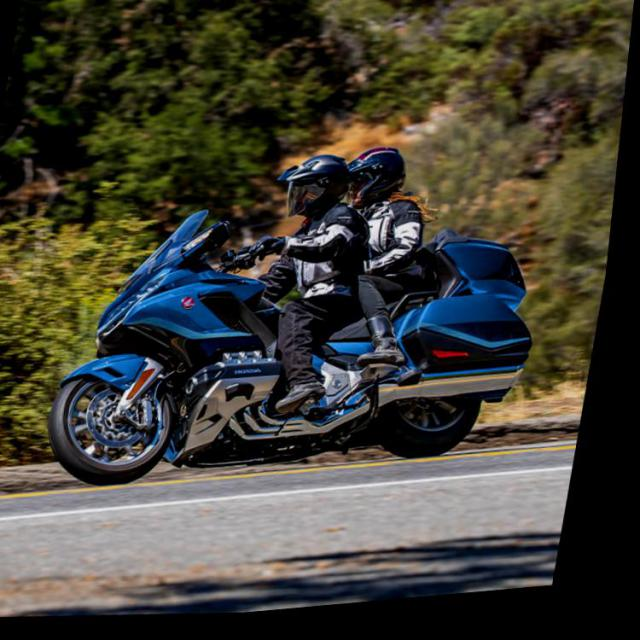Gold Wing: (44, 178, 564, 523)
